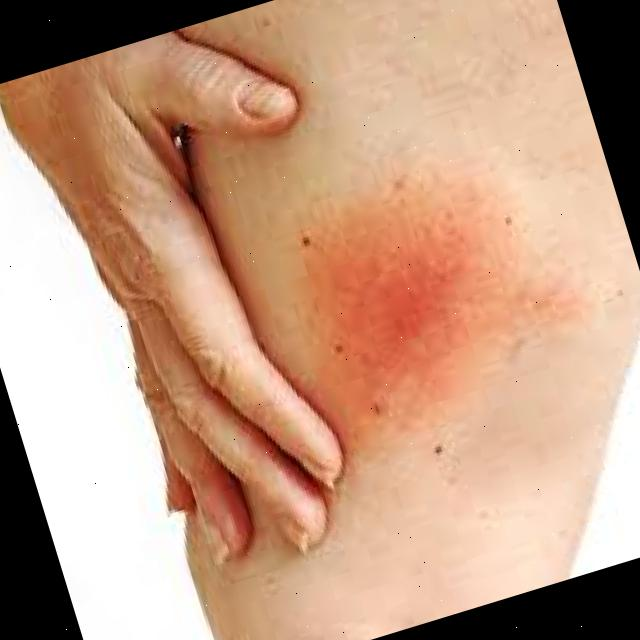kene: (304, 187, 505, 407)
